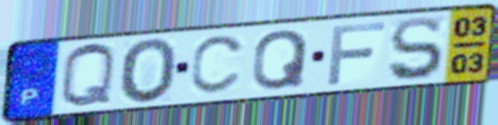C: (187, 33, 249, 98)
F: (325, 20, 389, 87)
O: (119, 36, 180, 107)
Q: (57, 41, 119, 111), (249, 28, 312, 93)
S: (386, 15, 446, 84)
